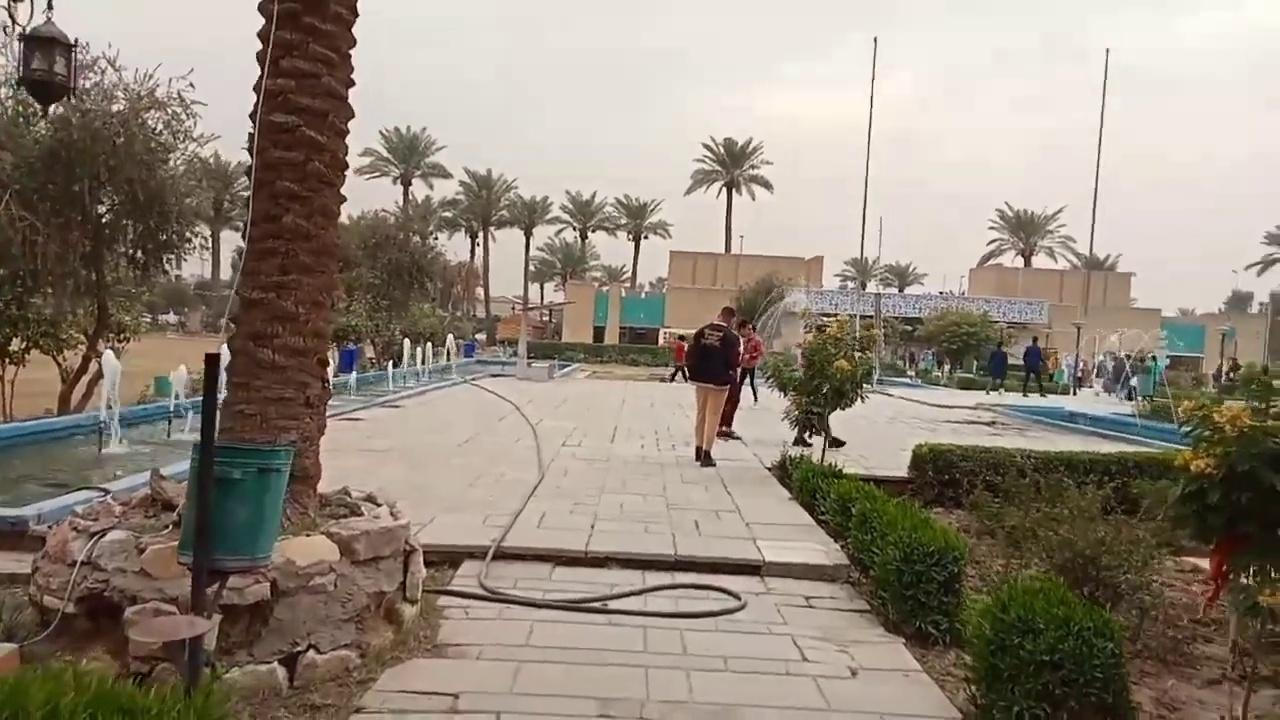fountain: (1, 331, 580, 531), (748, 281, 1264, 456), (0, 349, 220, 529), (329, 332, 580, 398), (1089, 325, 1169, 400), (92, 346, 130, 453)
person: (684, 305, 742, 467), (716, 317, 764, 438), (1021, 335, 1048, 397), (984, 340, 1007, 395), (664, 333, 689, 383)
tree: (0, 36, 228, 416), (213, 0, 360, 534), (1165, 359, 1279, 718), (352, 123, 453, 325), (757, 307, 882, 464), (335, 205, 448, 367), (451, 166, 517, 344), (683, 133, 774, 254), (494, 191, 555, 364), (181, 147, 250, 295), (352, 123, 452, 213), (975, 200, 1078, 268), (602, 192, 673, 289), (913, 306, 998, 375), (873, 258, 928, 363), (553, 187, 611, 280), (1243, 223, 1279, 369), (833, 254, 883, 343), (526, 235, 597, 297), (1066, 249, 1121, 314), (592, 262, 630, 344), (148, 276, 201, 333), (732, 270, 784, 327), (1243, 223, 1279, 278), (873, 259, 927, 293), (833, 254, 882, 291), (879, 314, 913, 364), (1070, 250, 1121, 270), (593, 262, 630, 289)
